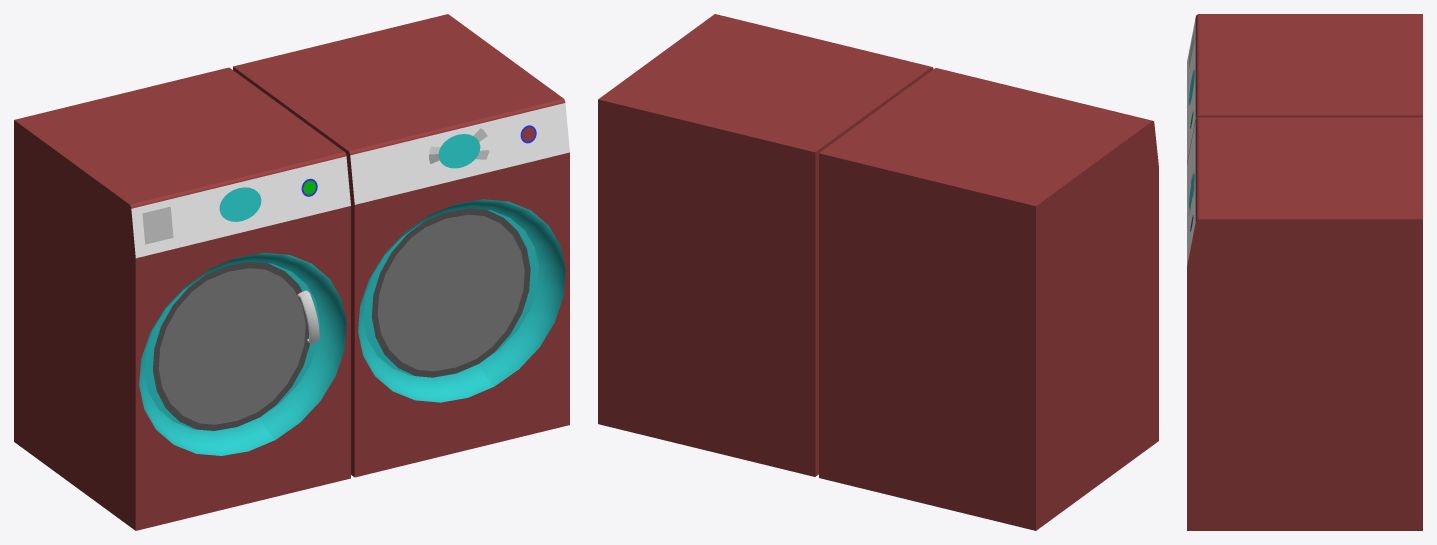
3 views of the same model, side by side, from view 1: azimuth 30°, elevation 25°; view 2: azimuth 150°, elevation 25°; view 3: azimuth 270°, elevation 25° (orthographic). The views are drawn at different scales.
Parts seen in each view (by area): view 1: Group_002, Group_005; view 2: Group_002, Group_005; view 3: Group_005, Group_002.
Part boxes in pixels (x1=…): Group_002: x1=14, y1=67, x2=350, y2=530; Group_005: x1=233, y1=14, x2=569, y2=477; Group_002: x1=819, y1=68, x2=1158, y2=530; Group_005: x1=598, y1=14, x2=933, y2=476; Group_005: x1=1187, y1=117, x2=1422, y2=530; Group_002: x1=1187, y1=14, x2=1422, y2=164.
Size of the model in its own units: 1291 by 914 by 627.
